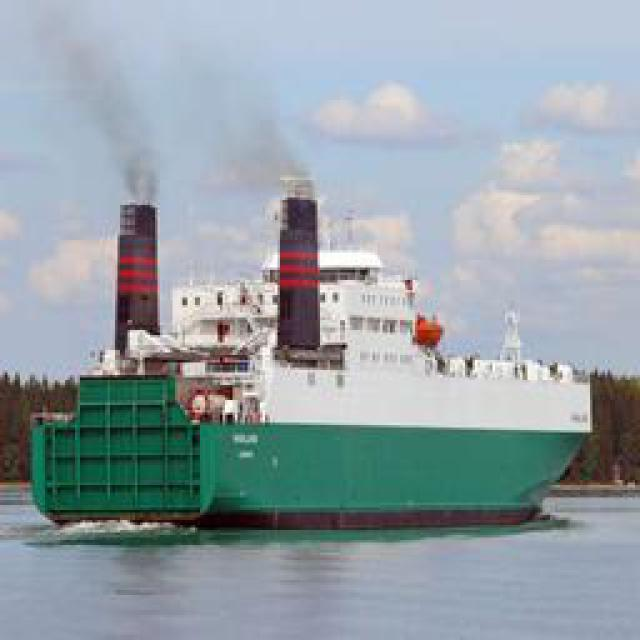Ship: (1, 177, 596, 525)
